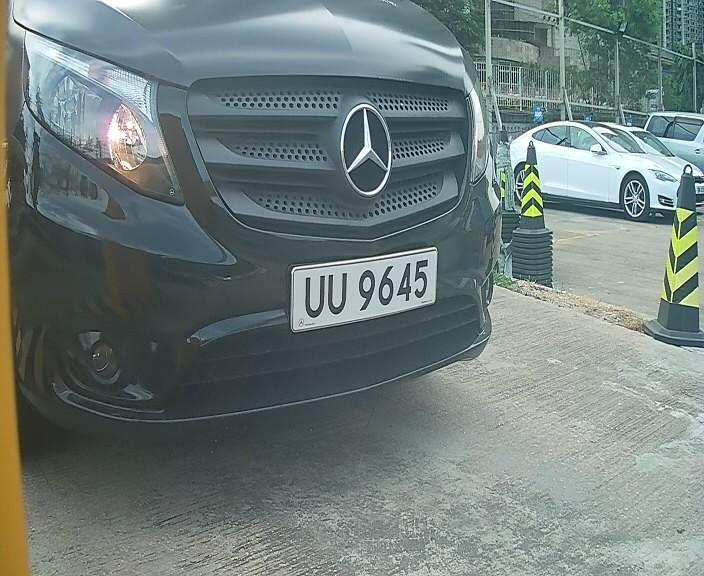privatecar: (1, 13, 541, 445)
